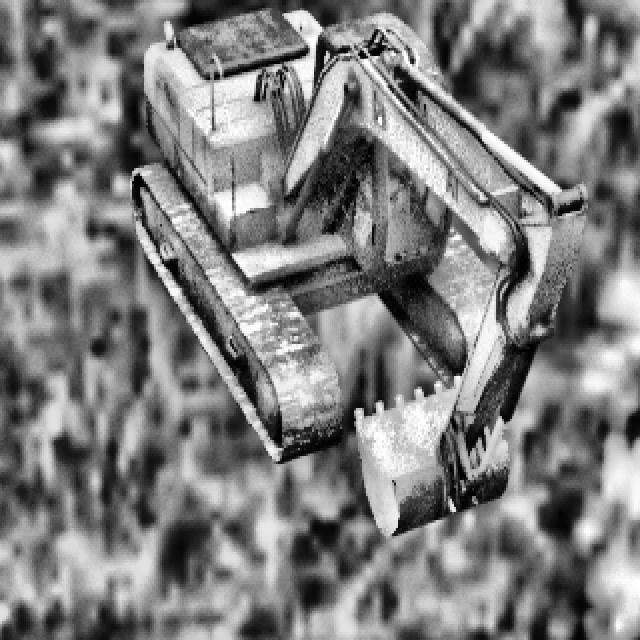excavator: (130, 5, 588, 536)
